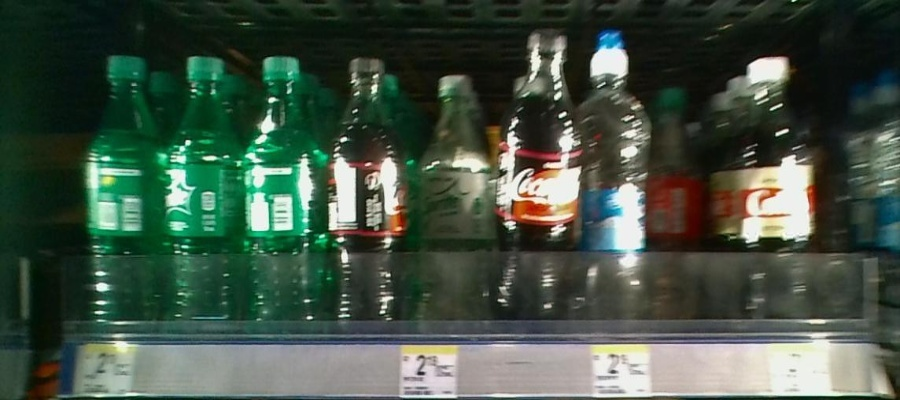bottle: (725, 53, 818, 333), (78, 51, 168, 329), (498, 32, 583, 326), (413, 63, 493, 352), (243, 52, 324, 334), (326, 55, 403, 336), (171, 51, 242, 333), (585, 22, 648, 330), (651, 76, 711, 328)
